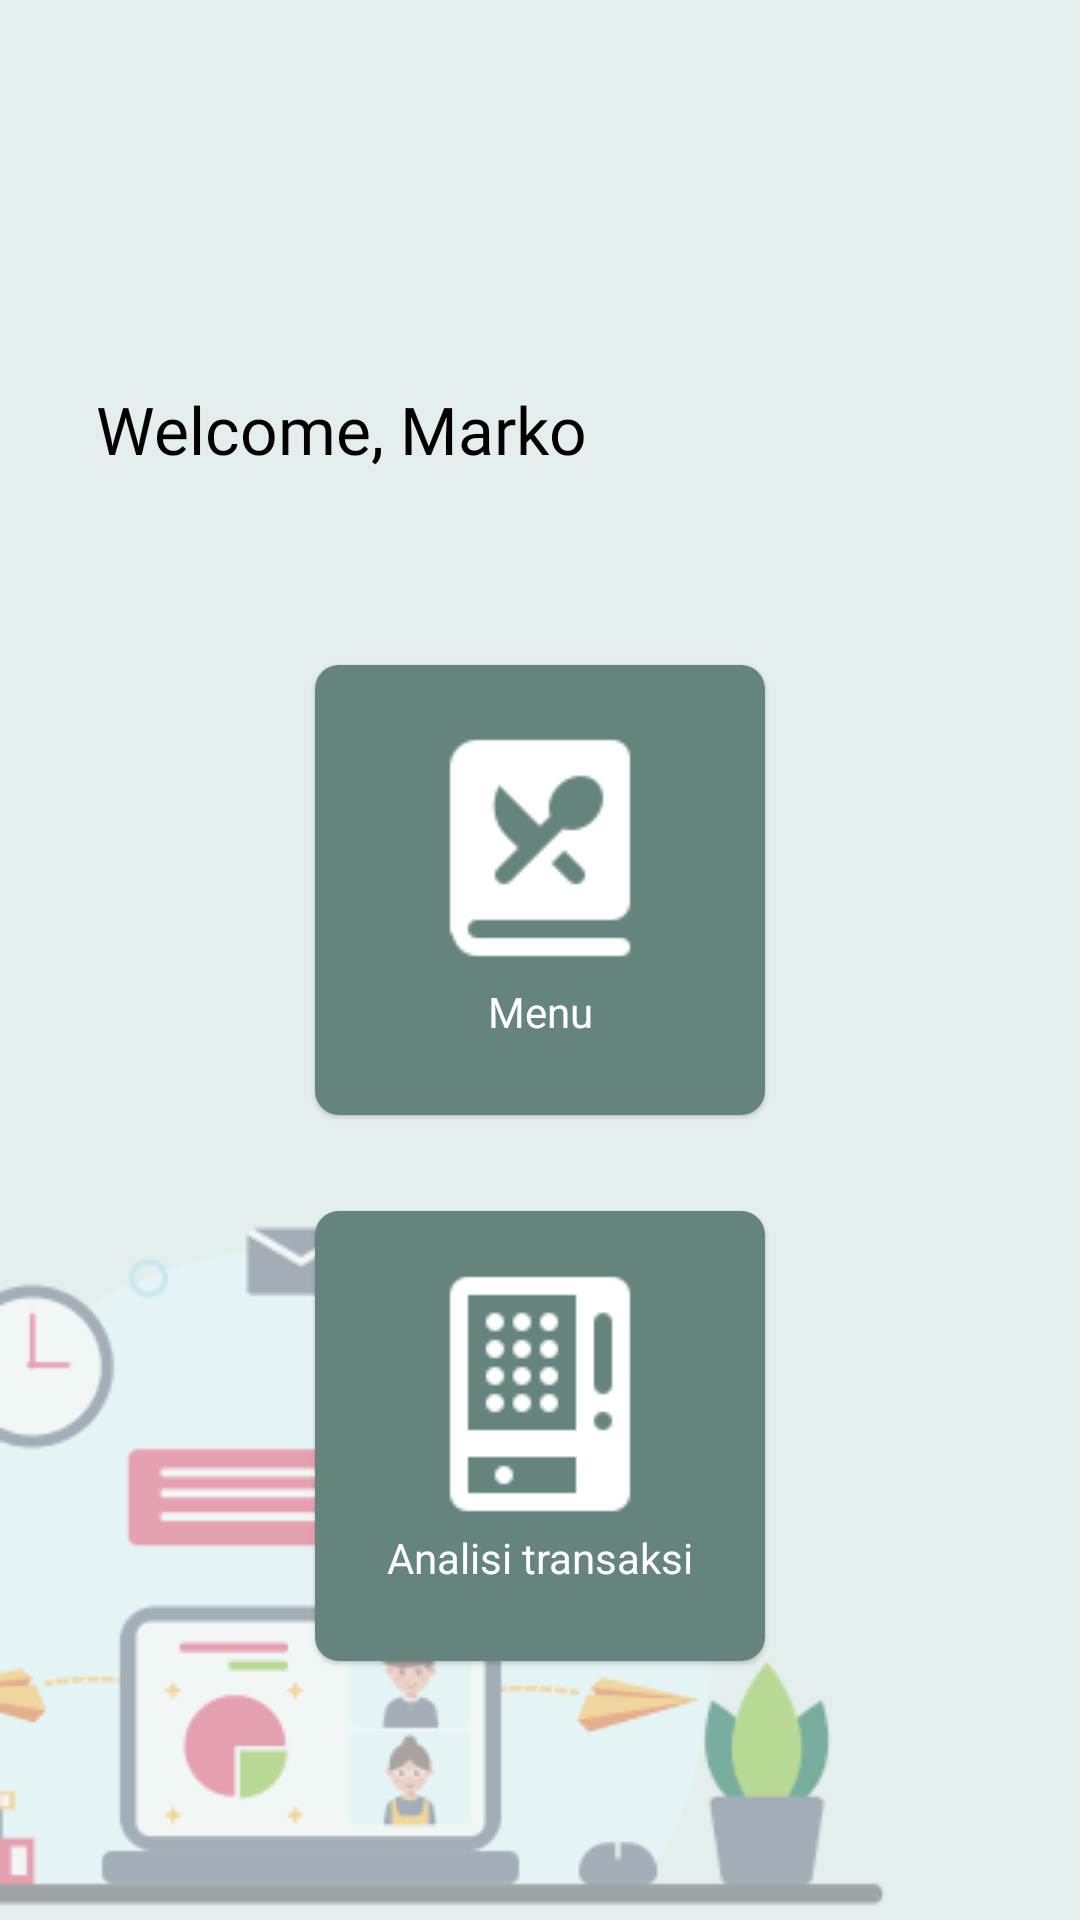

Icons on this 1080w x 1920h Android screen, each with its box as (x1, y1, x2, y2):
cooking book: (449, 739, 631, 957)
vending machine: (449, 1276, 631, 1512)
